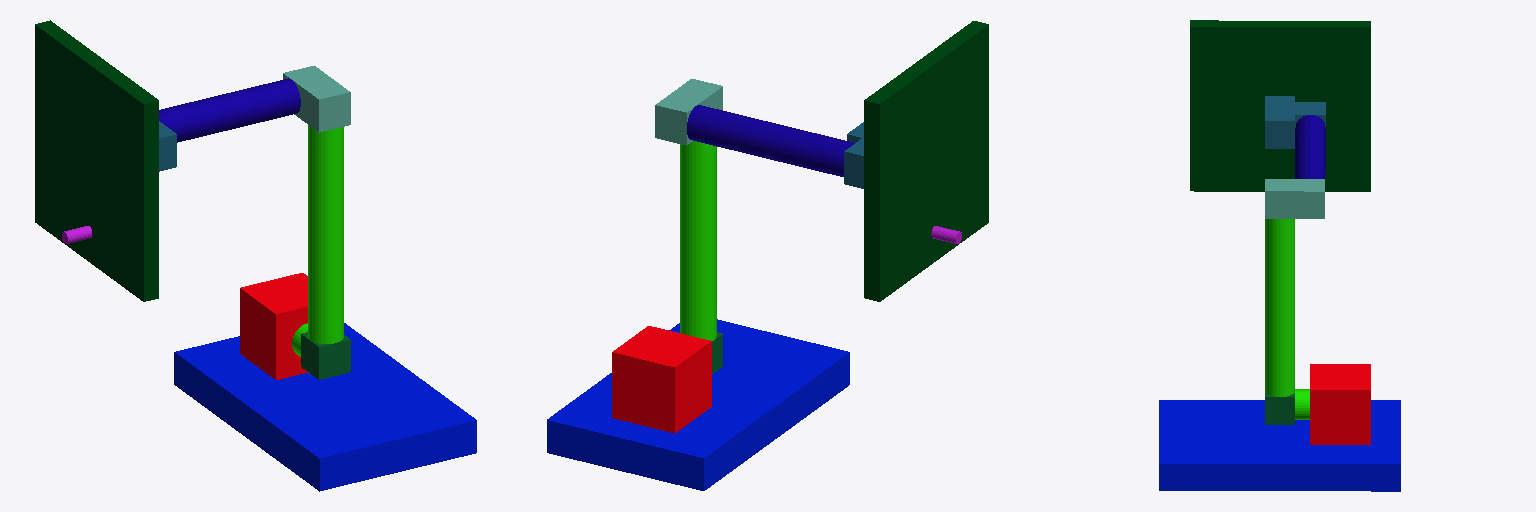
URDF robot description (stand):
<?xml version='1.0' encoding='utf-8'?>
<robot name="stand">
  <link name="world"></link>
  <joint name="base_joint" type="fixed">
    <parent link="world" />
    <child link="bottom" />
    <origin xyz="1.2 0 0.05" rpy="0 0 3.14" />
  </joint>
  <link name="bottom">
    <visual>
      <origin xyz="0 0 0" rpy="0 0 0" />
      <geometry>
        <box size="0.5 0.8 0.1" />
      </geometry>
      <material name="bottom-material">
        <color rgba="0.023153366173251363 0.14412847084818123 0.8962693533719567 1" />
      </material>
    </visual>
    <collision>
      <origin xyz="0 0 0" rpy="0 0 0" />
      <geometry>
        <box size="0.5 0.8 0.1" />
      </geometry>
    </collision>
    <inertial>
      <origin xyz="0 0 0" rpy="0 0 0" />
      <mass value="1" />
      <inertia ixx="0.16666666666666666" ixy="0" ixz="0" iyy="0.16666666666666666" iyz="0" izz="0.16666666666666666" />
    </inertial>
  </link>
  <joint name="bottom_to_cube1" type="revolute">
    <parent link="bottom" />
    <child link="cube1" />
    <origin xyz="0 -0.2 0.15" rpy="0 0 0" />
    <axis xyz="0 0 1"/>
    <limit effort="1000.0" lower="-1.57" upper="1.57" velocity="0.5"/>  </joint>
  <link name="cube1">
    <visual>
      <origin xyz="0 0 0" rpy="0 0 0" />
      <geometry>
        <box size="0.2 0.2 0.2" />
      </geometry>
      <material name="cube1-material">
        <color rgba="1 0.019382360952473074 0.07818742179702069 1" />
      </material>
    </visual>
    <collision>
      <origin xyz="0 0 0" rpy="0 0 0" />
      <geometry>
        <box size="0.2 0.2 0.2" />
      </geometry>
    </collision>
    <inertial>
      <origin xyz="0 0 0" rpy="0 0 0" />
      <mass value="1" />
      <inertia ixx="0.16666666666666666" ixy="0" ixz="0" iyy="0.16666666666666666" iyz="0" izz="0.16666666666666666" />
    </inertial>
  </link>
  <joint name="cube1_to_cylinder0" type="revolute">
    <parent link="cube1" />
    <child link="cylinder0" />
    <origin xyz="0 0.125 0" rpy="-1.5707963267948963 0 0" />
    <axis xyz="0 0 1"/>
    <limit effort="1000.0" lower="-1" upper="1" velocity="0.5"/>  </joint>
  <link name="cylinder0">
    <visual>
      <origin xyz="0 0 0" rpy="0 0 0" />
      <geometry>
        <cylinder radius="0.05" length="0.05" />
      </geometry>
      <material name="cylinder0-material">
        <color rgba="0.15292615198613213 0.913098651791473 0.023153366173251363 1" />
      </material>
    </visual>
    <collision>
      <origin xyz="0 0 0" rpy="0 0 0" />
      <geometry>
        <cylinder radius="0.05" length="0.05" />
      </geometry>
    </collision>
    <inertial>
      <origin xyz="0 0 0" rpy="0 0 0" />
      <mass value="1" />
      <inertia ixx="0.3333333333333333" ixy="0" ixz="0" iyy="0.5" iyz="0" izz="0.3333333333333333" />
    </inertial>
  </link>
  <joint name="cylinder0_to_cube3" type="fixed">
    <parent link="cylinder0" />
    <child link="cube3" />
    <origin xyz="0 0 0.07499999999999994" rpy="1.5707963267948963 0 0" />
  </joint>
  <link name="cube3">
    <visual>
      <origin xyz="0 0 0" rpy="0 0 0" />
      <geometry>
        <box size="0.1 0.1 0.1" />
      </geometry>
      <material name="cube3-material">
        <color rgba="0.07421356837213867 0.407240211891531 0.21952619971859377 1" />
      </material>
    </visual>
    <collision>
      <origin xyz="0 0 0" rpy="0 0 0" />
      <geometry>
        <box size="0.1 0.1 0.1" />
      </geometry>
    </collision>
    <inertial>
      <origin xyz="0 0 0" rpy="0 0 0" />
      <mass value="1" />
      <inertia ixx="0.16666666666666666" ixy="0" ixz="0" iyy="0.16666666666666666" iyz="0" izz="0.16666666666666666" />
    </inertial>
  </link>
  <joint name="cube3_to_cylinder1" type="revolute">
    <parent link="cube3" />
    <child link="cylinder1" />
    <origin xyz="0 0 0.4" rpy="0 0 0" />
    <axis xyz="0 0 1"/>
    <limit effort="1000.0" lower="-1.57" upper="1.57" velocity="0.5"/>  </joint>
  <link name="cylinder1">
    <visual>
      <origin xyz="0 1.1102230246251575e-17 0" rpy="0 0 0" />
      <geometry>
        <cylinder radius="0.05" length="0.7" />
      </geometry>
      <material name="cylinder1-material">
        <color rgba="0.15292615198613213 0.913098651791473 0.023153366173251363 1" />
      </material>
    </visual>
    <collision>
      <origin xyz="0 1.1102230246251575e-17 0" rpy="0 0 0" />
      <geometry>
        <cylinder radius="0.05" length="0.7" />
      </geometry>
    </collision>
    <inertial>
      <origin xyz="0 1.1102230246251575e-17 0" rpy="0 0 0" />
      <mass value="1" />
      <inertia ixx="0.3333333333333333" ixy="0" ixz="0" iyy="0.5" iyz="0" izz="0.3333333333333333" />
    </inertial>
  </link>
  <joint name="cylinder1_to_cube5" type="fixed">
    <parent link="cylinder1" />
    <child link="cube5" />
    <origin xyz="0 0 0.35" rpy="0 0 0" />
  </joint>
  <link name="cube5">
    <visual>
      <origin xyz="0 0 0" rpy="0 0 0" />
      <geometry>
        <box size="0.1 0.1 0.1" />
      </geometry>
      <material name="cube5-material">
        <color rgba="0.3967552307153359 0.6938717612856897 0.623960391667596 1" />
      </material>
    </visual>
    <collision>
      <origin xyz="0 0 0" rpy="0 0 0" />
      <geometry>
        <box size="0.1 0.1 0.1" />
      </geometry>
    </collision>
    <inertial>
      <origin xyz="0 0 0" rpy="0 0 0" />
      <mass value="1" />
      <inertia ixx="0.16666666666666666" ixy="0" ixz="0" iyy="0.16666666666666666" iyz="0" izz="0.16666666666666666" />
    </inertial>
  </link>
  <joint name="cube5_to_cube6" type="revolute">
    <parent link="cube5" />
    <child link="cube6" />
    <origin xyz="0 -0.1 0" rpy="-1.5707963267948963 0 0" />
    <axis xyz="0 0 1"/>
    <limit effort="1000.0" lower="-1.57" upper="1.57" velocity="0.5"/>  </joint>
  <link name="cube6">
    <visual>
      <origin xyz="0 0 0" rpy="0 0 0" />
      <geometry>
        <box size="0.1 0.1 0.1" />
      </geometry>
      <material name="cube6-material">
        <color rgba="0.3967552307153359 0.6938717612856897 0.623960391667596 1" />
      </material>
    </visual>
    <collision>
      <origin xyz="0 0 0" rpy="0 0 0" />
      <geometry>
        <box size="0.1 0.1 0.1" />
      </geometry>
    </collision>
    <inertial>
      <origin xyz="0 0 0" rpy="0 0 0" />
      <mass value="1" />
      <inertia ixx="0.16666666666666666" ixy="0" ixz="0" iyy="0.16666666666666666" iyz="0" izz="0.16666666666666666" />
    </inertial>
  </link>
  <joint name="cube6_to_cylinder2" type="fixed">
    <parent link="cube6" />
    <child link="cylinder2" />
    <origin xyz="0.3 0 0" rpy="1.5707963267948966 2.220446049250313e-16 1.5707963267948963" />
  </joint>
  <link name="cylinder2">
    <visual>
      <origin xyz="0 0 0" rpy="0 0 0" />
      <geometry>
        <cylinder radius="0.05" length="0.5" />
      </geometry>
      <material name="cylinder2-material">
        <color rgba="0.11697066774917994 0.04231141061442144 0.6514056374127929 1" />
      </material>
    </visual>
    <collision>
      <origin xyz="0 0 0" rpy="0 0 0" />
      <geometry>
        <cylinder radius="0.05" length="0.5" />
      </geometry>
    </collision>
    <inertial>
      <origin xyz="0 0 0" rpy="0 0 0" />
      <mass value="1" />
      <inertia ixx="0.3333333333333333" ixy="0" ixz="0" iyy="0.5" iyz="0" izz="0.3333333333333333" />
    </inertial>
  </link>
  <joint name="cylinder2_to_cube7" type="fixed">
    <parent link="cylinder2" />
    <child link="cube7" />
    <origin xyz="0 0 0.3" rpy="-1.1102230246251565e-16 -1.5707963267948966 1.1102230246251568e-16" />
  </joint>
  <link name="cube7">
    <visual>
      <origin xyz="0 0 0" rpy="0 0 0" />
      <geometry>
        <box size="0.1 0.1 0.1" />
      </geometry>
      <material name="cube7-material">
        <color rgba="0.1499597898006365 0.4019777798219466 0.5028864580233624 1" />
      </material>
    </visual>
    <collision>
      <origin xyz="0 0 0" rpy="0 0 0" />
      <geometry>
        <box size="0.1 0.1 0.1" />
      </geometry>
    </collision>
    <inertial>
      <origin xyz="0 0 0" rpy="0 0 0" />
      <mass value="1" />
      <inertia ixx="0.16666666666666666" ixy="0" ixz="0" iyy="0.16666666666666666" iyz="0" izz="0.16666666666666666" />
    </inertial>
  </link>
  <joint name="cube7_to_cube8" type="revolute">
    <parent link="cube7" />
    <child link="cube8" />
    <origin xyz="0 0.1 0" rpy="-1.5707963267948963 0 -1.2154326714572542e-63" />
    <axis xyz="0 0 1"/>
    <limit effort="1000.0" lower="-1.57" upper="1.57" velocity="0.5"/>  </joint>
  <link name="cube8">
    <visual>
      <origin xyz="0 0 0" rpy="0 0 0" />
      <geometry>
        <box size="0.2 0.1 0.1" />
      </geometry>
      <material name="cube8-material">
        <color rgba="0.1499597898006365 0.4019777798219466 0.5028864580233624 1" />
      </material>
    </visual>
    <collision>
      <origin xyz="0 0 0" rpy="0 0 0" />
      <geometry>
        <box size="0.2 0.1 0.1" />
      </geometry>
    </collision>
    <inertial>
      <origin xyz="0 0 0" rpy="0 0 0" />
      <mass value="1" />
      <inertia ixx="0.16666666666666666" ixy="0" ixz="0" iyy="0.16666666666666666" iyz="0" izz="0.16666666666666666" />
    </inertial>
  </link>
  <joint name="cube8_to_cube9" type="revolute">
    <parent link="cube8" />
    <child link="cube9" />
    <origin xyz="0.125 0 0" rpy="-2.465190328815662e-32 1.5707963267948966 -2.465190328815662e-32" />
    <axis xyz="0 0 1"/>
    <limit effort="1000.0" lower="-0.7854" upper="0.7854" velocity="0.5"/>  </joint>
  <link name="cube9">
    <visual>
      <origin xyz="0 0 0" rpy="0 0 0" />
      <geometry>
        <box size="0.6 0.6 0.05" />
      </geometry>
      <material name="cube9-material">
        <color rgba="0.008568125615105716 0.3049873140591091 0.09305896283800832 1" />
      </material>
    </visual>
    <collision>
      <origin xyz="0 0 0" rpy="0 0 0" />
      <geometry>
        <box size="0.6 0.6 0.05" />
      </geometry>
    </collision>
    <inertial>
      <origin xyz="0 0 0" rpy="0 0 0" />
      <mass value="1" />
      <inertia ixx="0.16666666666666666" ixy="0" ixz="0" iyy="0.16666666666666666" iyz="0" izz="0.16666666666666666" />
    </inertial>
  </link>
  <joint name="cube9_to_cylinder3" type="fixed">
    <parent link="cube9" />
    <child link="cylinder3" />
    <origin xyz="4.336808689942018e-19 0.2085 0.0525" rpy="-2.220446049250313e-16 0 1.5707963267948963" />
  </joint>
  <link name="cylinder3">
    <visual>
      <origin xyz="0 0 0" rpy="0 0 0" />
      <geometry>
        <cylinder radius="0.018" length="0.1" />
      </geometry>
      <material name="cylinder3-material">
        <color rgba="0.76052450467022 0.16202937562896222 0.8631572134510892 1" />
      </material>
    </visual>
    <collision>
      <origin xyz="0 0 0" rpy="0 0 0" />
      <geometry>
        <cylinder radius="0.018" length="0.1" />
      </geometry>
    </collision>
    <inertial>
      <origin xyz="0 0 0" rpy="0 0 0" />
      <mass value="1" />
      <inertia ixx="0.3333333333333333" ixy="0" ixz="0" iyy="0.5" iyz="0" izz="0.3333333333333333" />
    </inertial>
  </link>
</robot>

--- Facts derived from the render (not from the file) ---
The picture shows the robot from 3 angles, left to right: view 1: azimuth 30°, elevation 25°; view 2: azimuth 150°, elevation 25°; view 3: azimuth 270°, elevation 25°; orthographic projection.
Model stand with 13 links and 12 joints (6 revolute, 6 fixed), rooted at world, posed every joint at zero.
Links seen in each view (by area): view 1: bottom, cube9, cylinder1, cube1, cylinder2, cube5, cube3, cube8, cube6; view 2: cube9, bottom, cube1, cylinder1, cylinder2, cube6, cube7, cube5; view 3: cube9, bottom, cylinder1, cube1, cylinder2, cube8, cube5, cube6, cube3.
Link boxes in pixels (x1=…): bottom: x1=174, y1=323, x2=476, y2=491; cube9: x1=35, y1=20, x2=158, y2=301; cylinder1: x1=308, y1=125, x2=343, y2=343; cube1: x1=240, y1=273, x2=308, y2=379; cylinder2: x1=159, y1=78, x2=300, y2=142; cube5: x1=301, y1=79, x2=350, y2=132; cube3: x1=301, y1=332, x2=350, y2=379; cube8: x1=159, y1=121, x2=176, y2=171; cube6: x1=283, y1=66, x2=331, y2=118; cube9: x1=864, y1=21, x2=988, y2=301; bottom: x1=547, y1=319, x2=849, y2=490; cube1: x1=612, y1=326, x2=711, y2=432; cylinder1: x1=680, y1=141, x2=716, y2=340; cylinder2: x1=687, y1=105, x2=854, y2=176; cube6: x1=655, y1=92, x2=704, y2=145; cube7: x1=844, y1=138, x2=863, y2=188; cube5: x1=674, y1=79, x2=722, y2=109; cube9: x1=1190, y1=20, x2=1370, y2=191; bottom: x1=1159, y1=400, x2=1400, y2=491; cylinder1: x1=1265, y1=219, x2=1294, y2=396; cube1: x1=1310, y1=364, x2=1370, y2=444; cylinder2: x1=1295, y1=115, x2=1325, y2=178; cube8: x1=1265, y1=96, x2=1294, y2=148; cube5: x1=1265, y1=179, x2=1294, y2=218; cube6: x1=1295, y1=179, x2=1324, y2=218; cube3: x1=1265, y1=393, x2=1294, y2=424.
Size in the robot's own frame: 1.08 by 0.8008 by 1.25 metres.
Geometry: primitives only (box / cylinder / sphere), no mesh files.